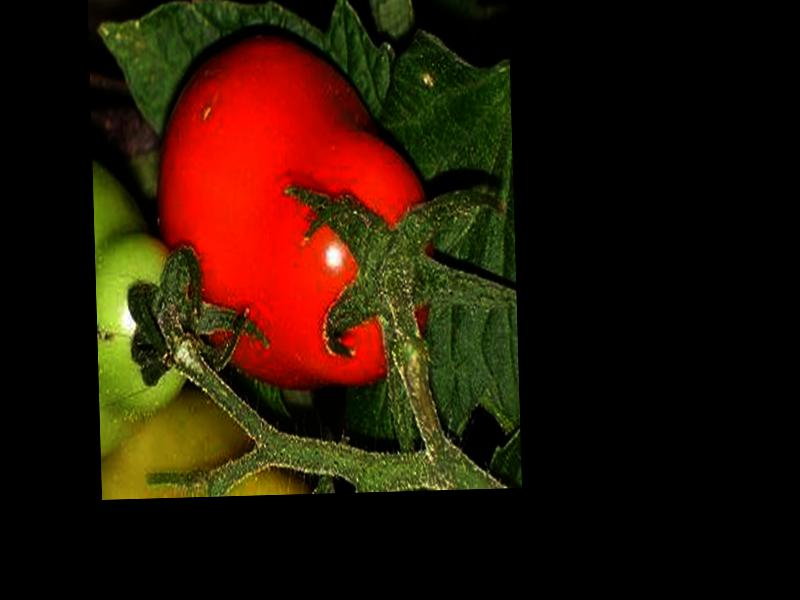Tomato: (153, 28, 436, 390)
